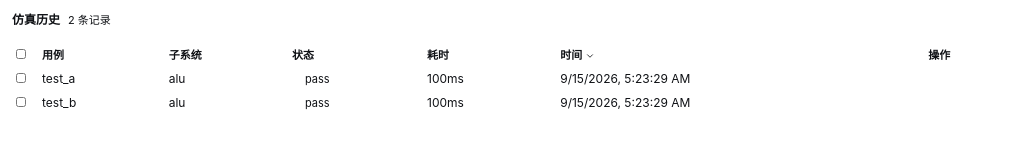
Test case: SimulationHistoryView › 选择两条记录后显示对比按钮
The width and height of the screenshot is (1024, 160).
Note: 第一个 checkbox 是全选，跳过
Click the checkbox next to "test_a" at {"x": 21, "y": 78}, box [16, 73, 26, 83]
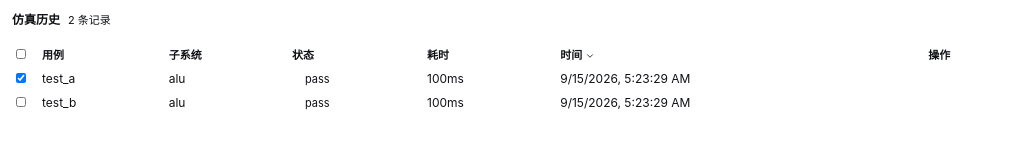
Click the checkbox next to "test_b" at {"x": 21, "y": 102}, box [16, 97, 26, 107]
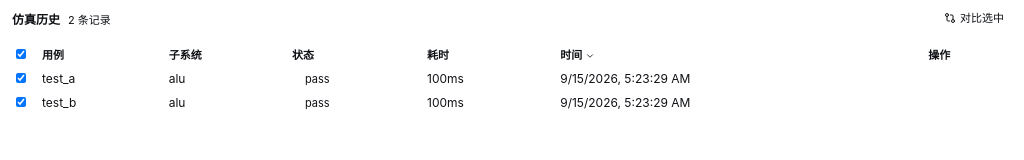
Expected: the button "对比选中" is shown, [936, 8, 1012, 28]
